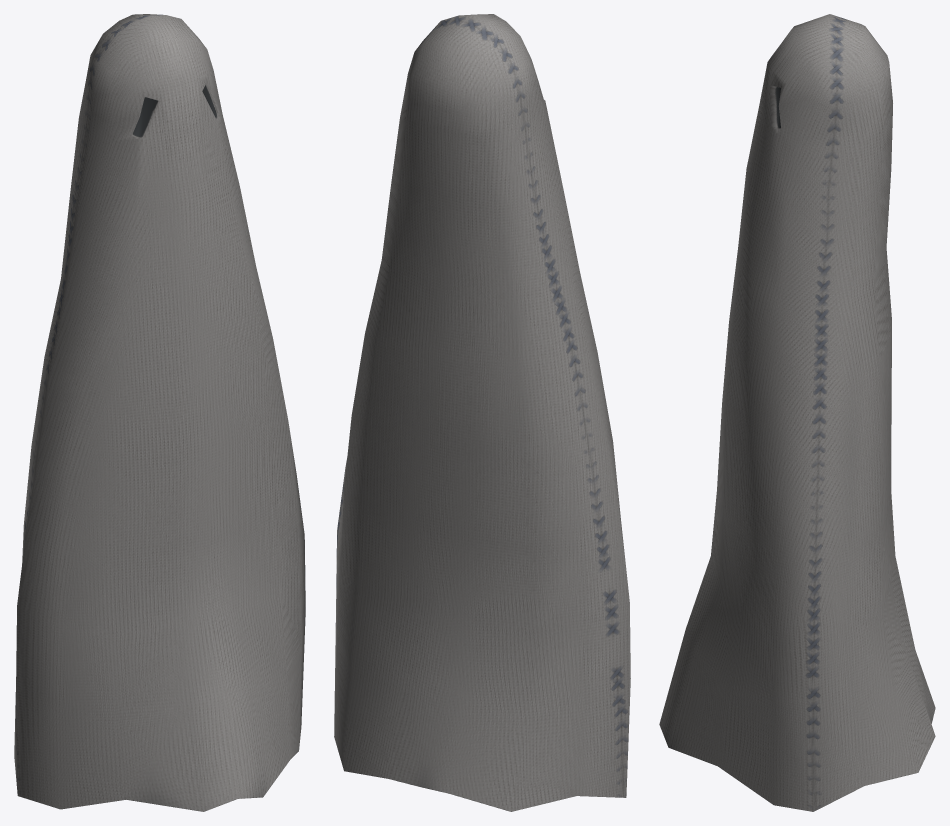
File: Ghost_Sheet_Textured.fbx
3 views of the same model, side by side, from view 1: azimuth 30°, elevation 25°; view 2: azimuth 150°, elevation 25°; view 3: azimuth 270°, elevation 25° (orthographic). The views are drawn at different scales.
Visible parts, largest first — view 1: pSphere5; view 2: pSphere5; view 3: pSphere5.
Part boxes in pixels (bbox=[...]): pSphere5: bbox=[14, 14, 305, 811]; pSphere5: bbox=[334, 14, 630, 811]; pSphere5: bbox=[659, 14, 935, 811].
Bounding box in the file's own units: 4.56 × 11.2 × 3.84.
1 material, 1 textured.
